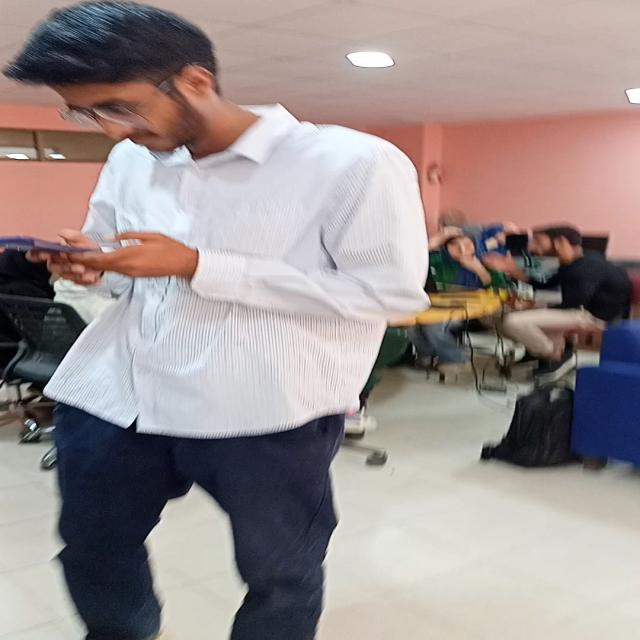dress: (43, 102, 428, 640)
glasses: (58, 96, 172, 117)
